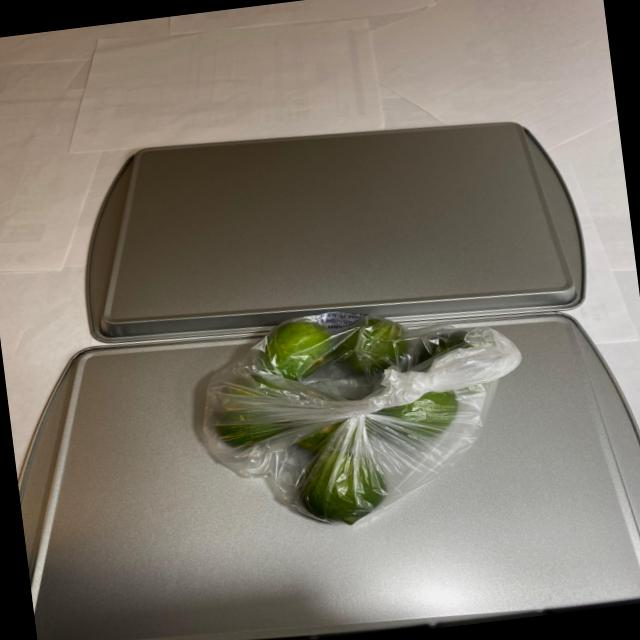lemon: (202, 295, 500, 542)
